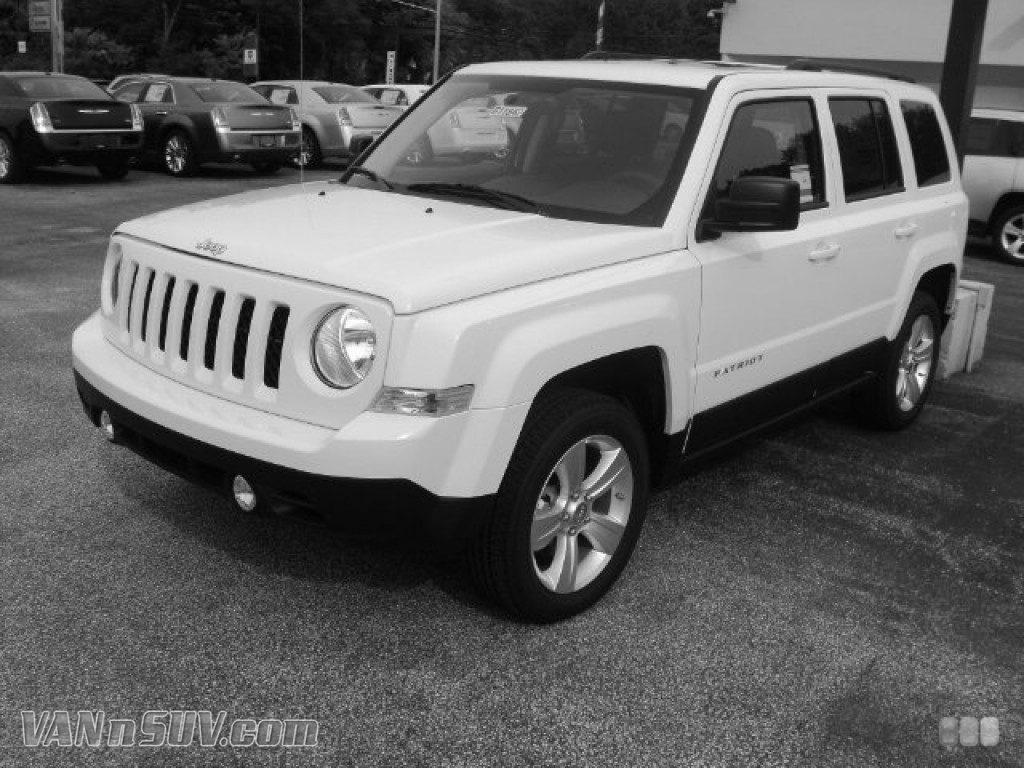car: (66, 55, 974, 627)
